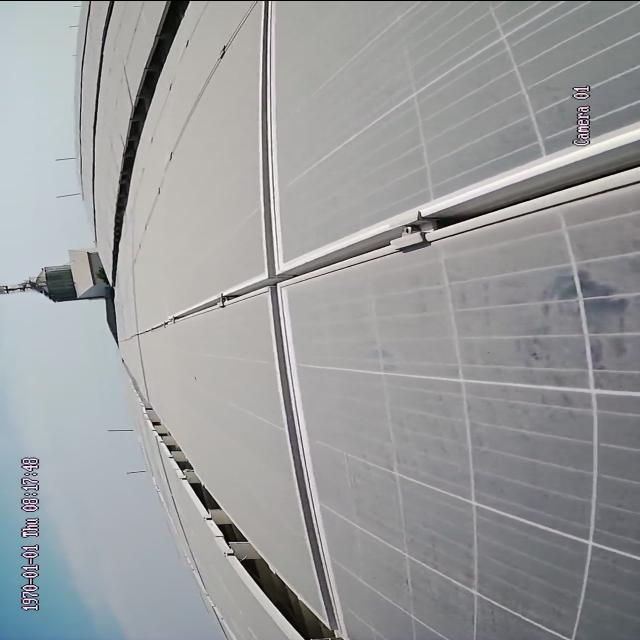interior panel: (154, 127, 615, 333), (270, 308, 351, 594), (256, 3, 285, 264)
outher panel: (150, 403, 344, 639), (107, 5, 198, 267)
